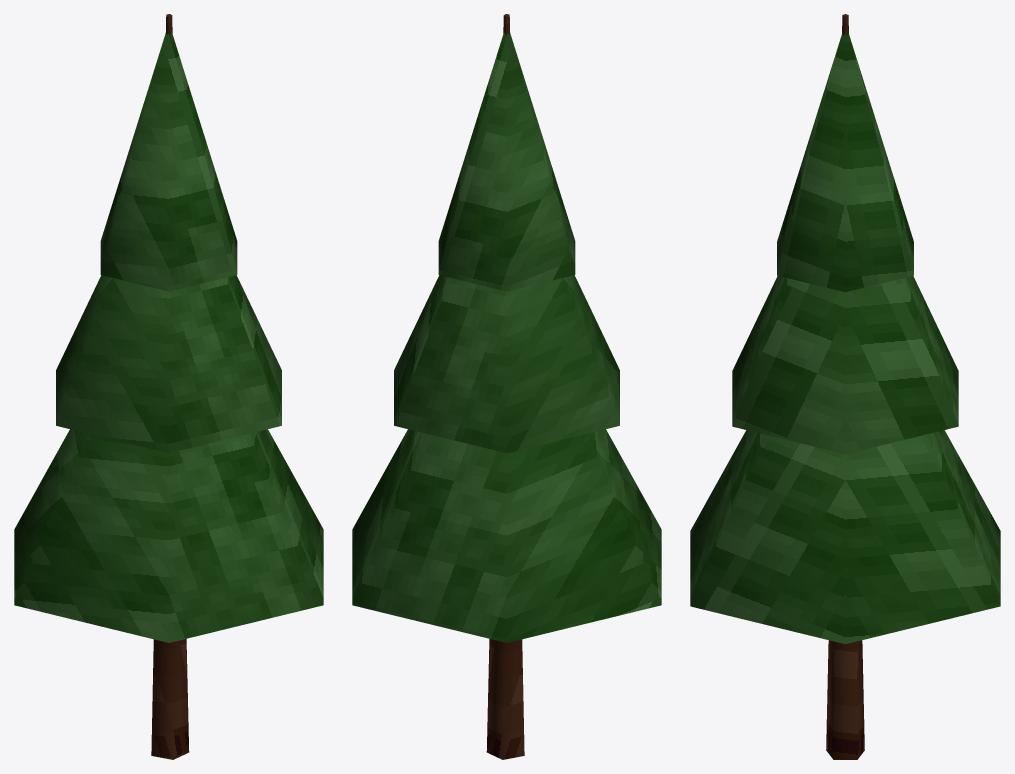
File: pine05-lod2.glb
The picture shows the model from 3 angles, left to right: view 1: azimuth 30°, elevation 25°; view 2: azimuth 150°, elevation 25°; view 3: azimuth 270°, elevation 25°; orthographic projection.
Visible parts, largest first — view 1: TZ_pine_Batch_01_LOD2, TZ_pine_Batch_00_LOD2; view 2: TZ_pine_Batch_01_LOD2, TZ_pine_Batch_00_LOD2; view 3: TZ_pine_Batch_01_LOD2, TZ_pine_Batch_00_LOD2.
Boxes of the visible parts, <box> form: TZ_pine_Batch_01_LOD2: <box>14,32,323,642</box>; TZ_pine_Batch_00_LOD2: <box>151,14,189,759</box>; TZ_pine_Batch_01_LOD2: <box>352,32,661,642</box>; TZ_pine_Batch_00_LOD2: <box>486,14,524,759</box>; TZ_pine_Batch_01_LOD2: <box>690,32,1000,644</box>; TZ_pine_Batch_00_LOD2: <box>826,14,864,759</box>.
Size of the model in its own units: 3.12 by 7.1 by 2.71.
Materials: 2 (2 with a texture image).
